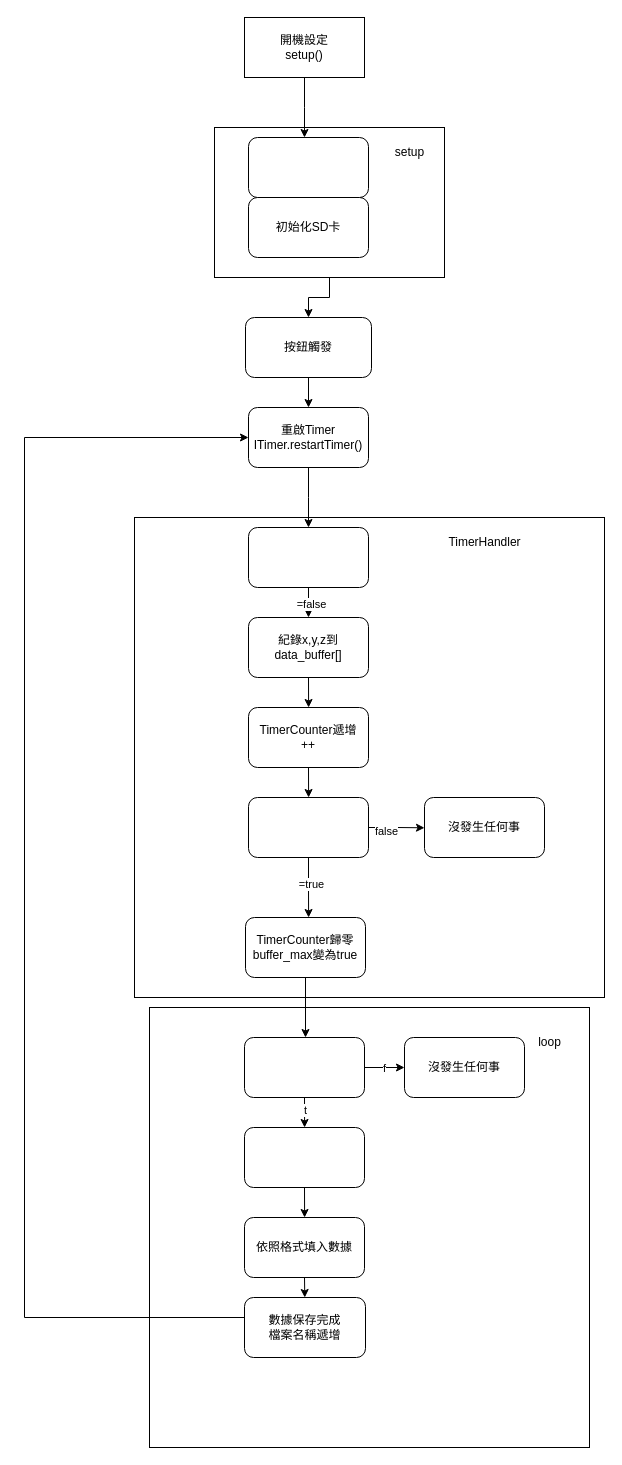
The diagram is 622 pixels wide and 1465 high, and some of its shapes have lost their labels. Each missing label, with the centre of its shape:
"以20KHz設定 TimerHandler" belongs at point 308,167.
"判斷buffer_max是否true" belongs at point 304,1067.
"判斷buffer_max是否ture" belongs at point 308,557.
"判斷TimerCounter是否滿兩萬" belongs at point 308,827.
"關閉計時器 ITimer.stopTimer(); 開啟文件" belongs at point 304,1157.
